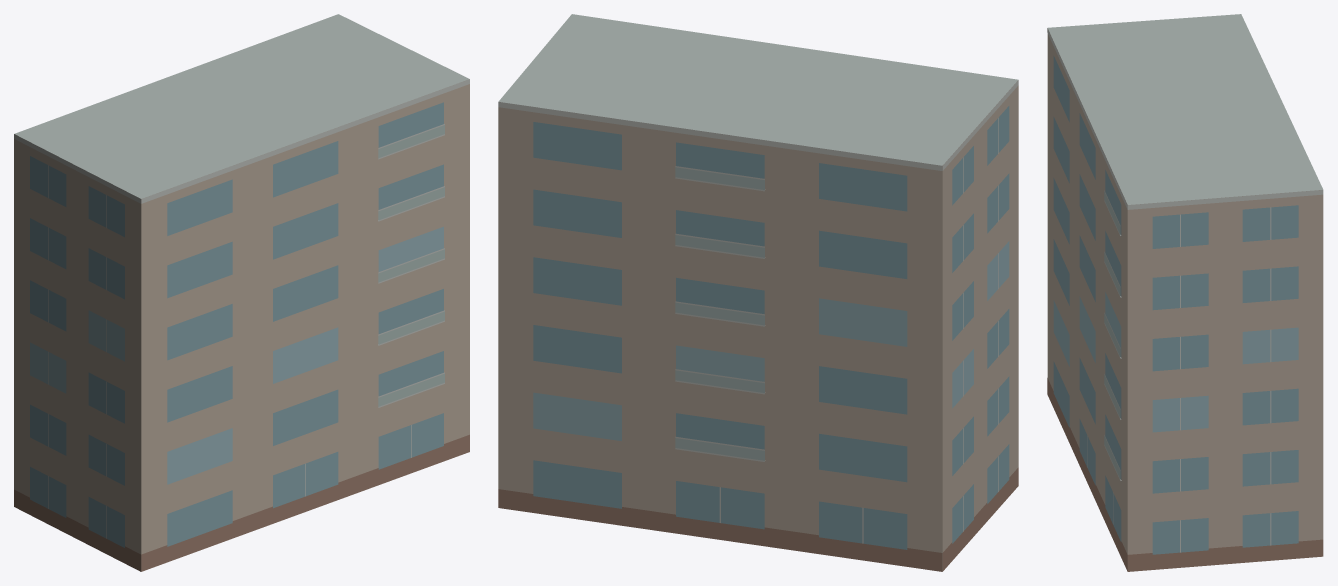
Rendered from survey-upis-32889673.glb.
3 views of the same model, side by side, from view 1: azimuth 30°, elevation 25°; view 2: azimuth 150°, elevation 25°; view 3: azimuth 270°, elevation 25° (orthographic). The views are drawn at different scales.
Parts seen in each view (by area): view 1: survey-upis-32889673.tmp; view 2: survey-upis-32889673.tmp; view 3: survey-upis-32889673.tmp.
Part boxes in pixels (x1,y1,x2,y2): survey-upis-32889673.tmp: (14,14,469,571); survey-upis-32889673.tmp: (498,14,1018,571); survey-upis-32889673.tmp: (1047,14,1323,571).
Size of the model in its own units: 20.56 by 18.4 by 12.55.
